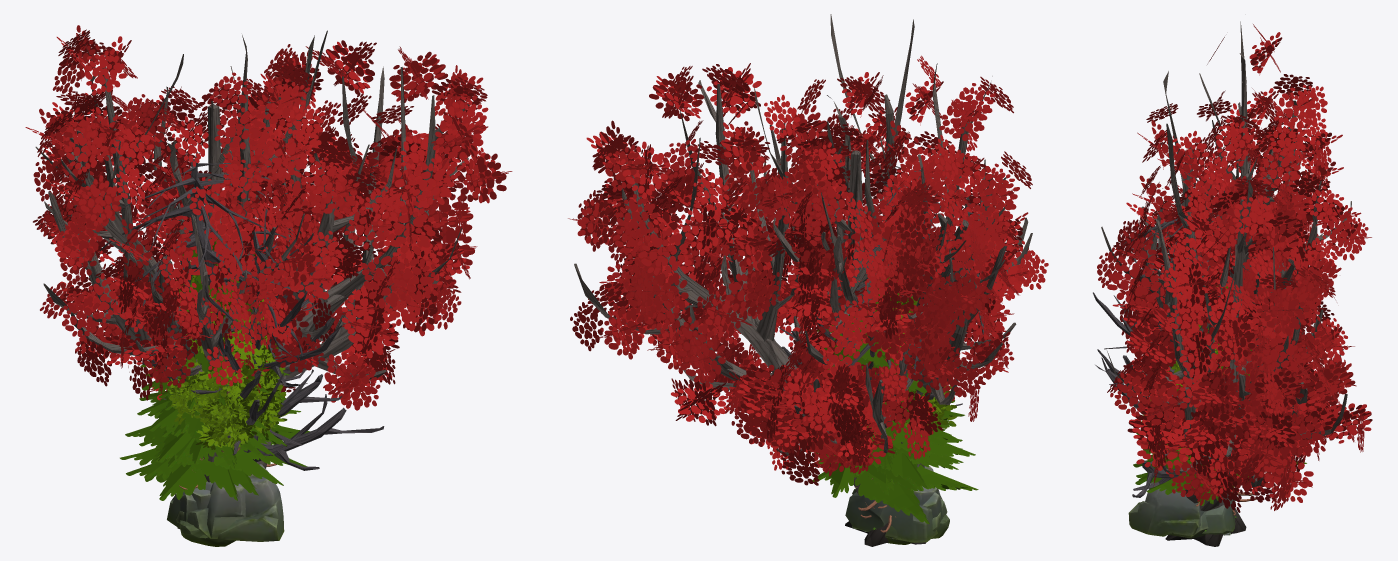
The model's file is nature.glb.
3 renders of one model, left to right at view 1: azimuth 30°, elevation 25°; view 2: azimuth 150°, elevation 25°; view 3: azimuth 270°, elevation 25°, orthographic. The views are drawn at different scales.
Visible parts, largest first — view 1: TwistedTree_1, TwistedTree_2, TwistedTree_3, DeadTree_2, DeadTree_3, Rock_Medium_3, Pine_2, Pine_4, CommonTree_3, CommonTree_1, Pine_5, CommonTree_2 (+3 smaller); view 2: TwistedTree_1, TwistedTree_2, TwistedTree_3, Pine_5, Rock_Medium_2, Pine_4, Pine_2, DeadTree_3; view 3: TwistedTree_1, TwistedTree_2, TwistedTree_3, Rock_Medium_3, DeadTree_2, Rock_Medium_2, Pine_5, Pine_2.
Boxes of the visible parts, box(x1,y1,x2,y2) form: TwistedTree_1: box(149, 35, 512, 528); TwistedTree_2: box(25, 25, 327, 482); TwistedTree_3: box(75, 59, 404, 400); DeadTree_2: box(165, 208, 384, 470); DeadTree_3: box(99, 148, 302, 356); Rock_Medium_3: box(180, 464, 284, 546); Pine_2: box(126, 380, 292, 500); Pine_4: box(125, 232, 289, 489); CommonTree_3: box(176, 280, 285, 422); CommonTree_1: box(170, 342, 288, 449); Pine_5: box(120, 359, 309, 495); CommonTree_2: box(167, 332, 286, 452); TwistedTree_1: box(568, 63, 926, 546); TwistedTree_2: box(767, 14, 1048, 467); TwistedTree_3: box(721, 72, 1039, 485); Pine_5: box(816, 312, 967, 515); Rock_Medium_2: box(845, 486, 937, 542); Pine_4: box(810, 277, 975, 532); Pine_2: box(812, 417, 978, 523); DeadTree_3: box(832, 166, 999, 381); TwistedTree_1: box(1106, 176, 1372, 546); TwistedTree_2: box(1126, 21, 1343, 383); TwistedTree_3: box(1097, 126, 1371, 502); Rock_Medium_3: box(1128, 481, 1204, 536); DeadTree_2: box(1093, 237, 1218, 497); Rock_Medium_2: box(1202, 492, 1235, 534); Pine_5: box(1136, 349, 1306, 505); Pine_2: box(1133, 450, 1251, 504).
Size of the model in its own units: 17.15 by 17.95 by 10.41.
Materials: 12 (12 with a texture image).
